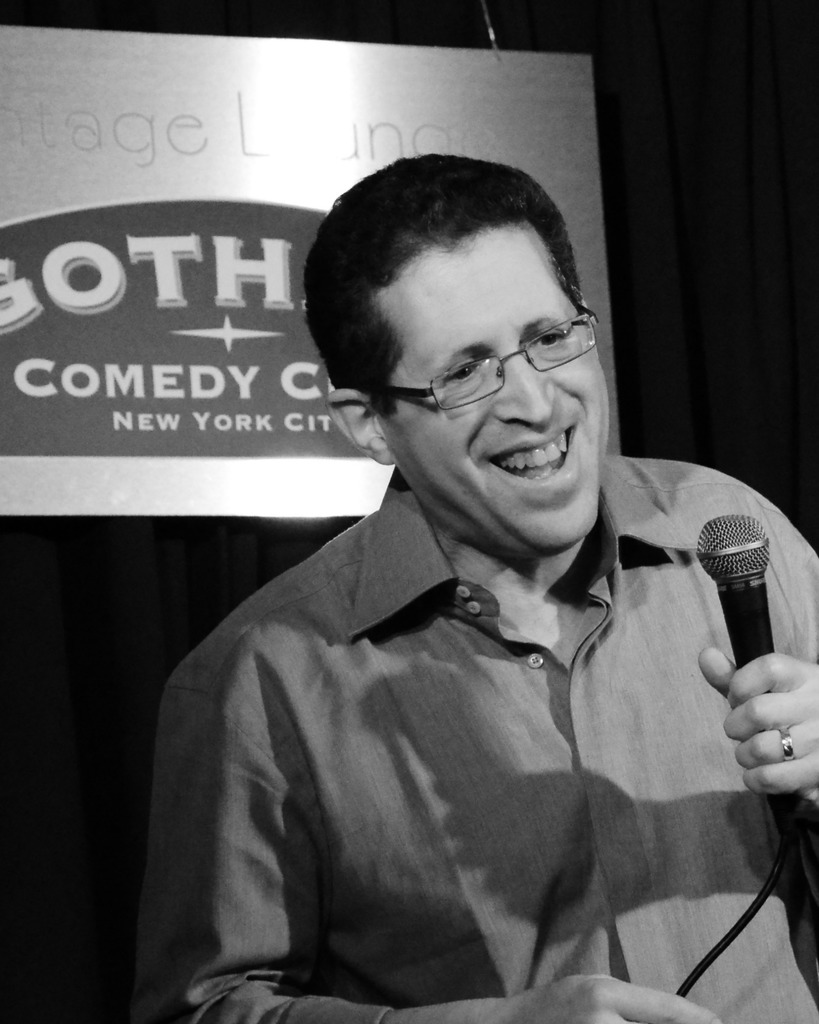Human_hand: (683, 627, 814, 779), (503, 970, 727, 1023)
